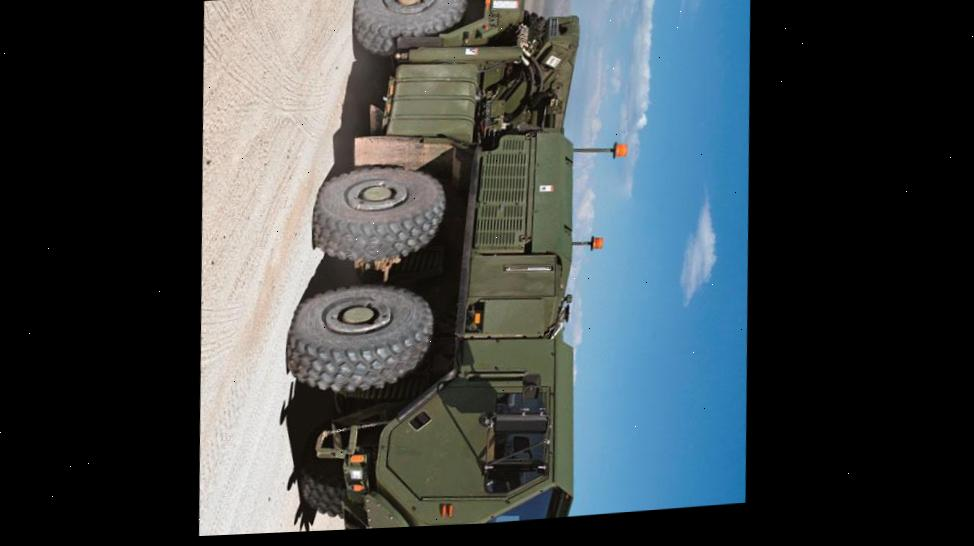truck: (263, 0, 646, 533)
